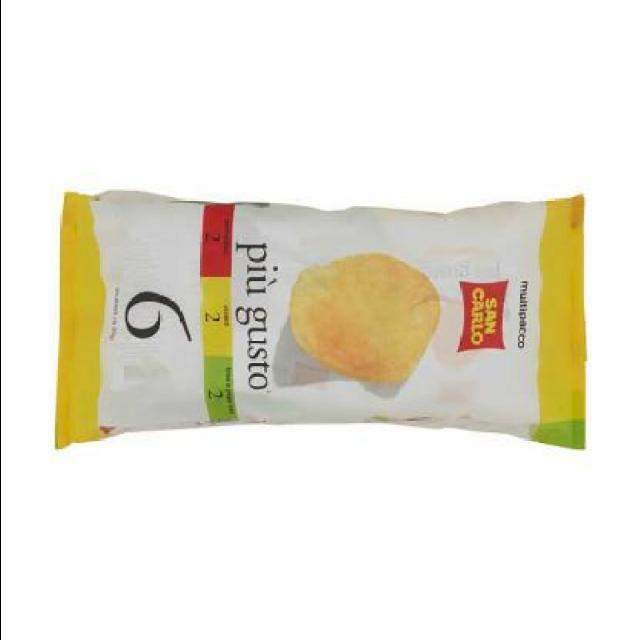Chips: (49, 189, 586, 449)
